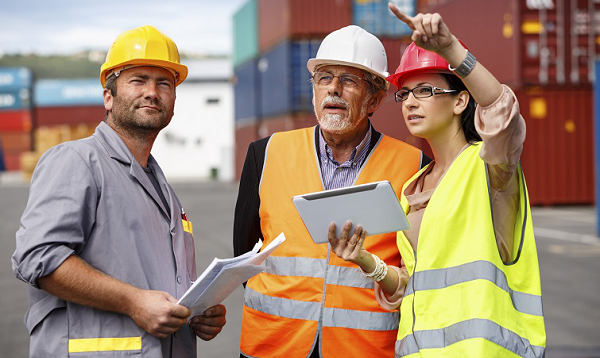Hard Hat: (262, 128, 393, 351), (398, 142, 522, 354), (306, 25, 390, 84), (98, 26, 193, 74), (388, 42, 475, 72)
